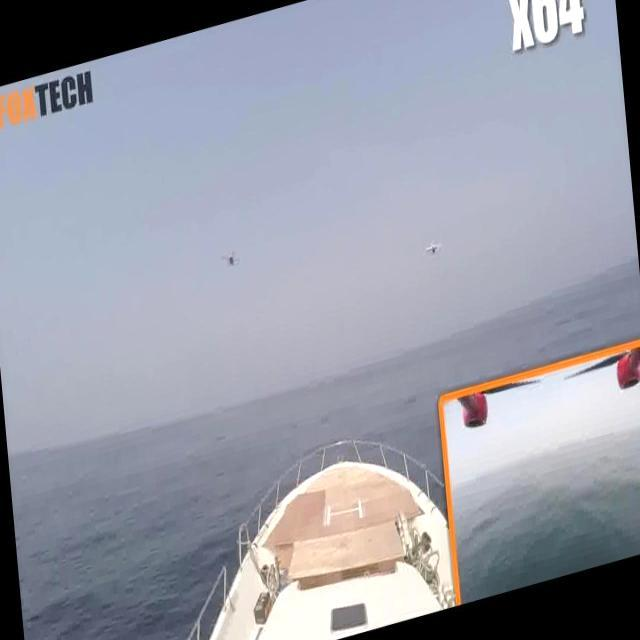drone: (420, 234, 444, 263), (218, 244, 242, 272)
